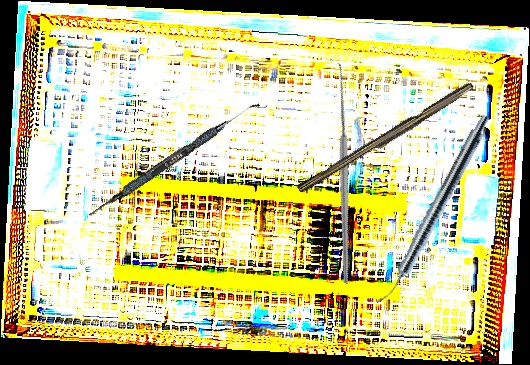Handpiece: (374, 110, 494, 311)
Hook Surgical: (238, 58, 440, 285)
Scalpel Handle: (296, 78, 477, 199)
Spatula Surgical: (86, 95, 261, 223)
